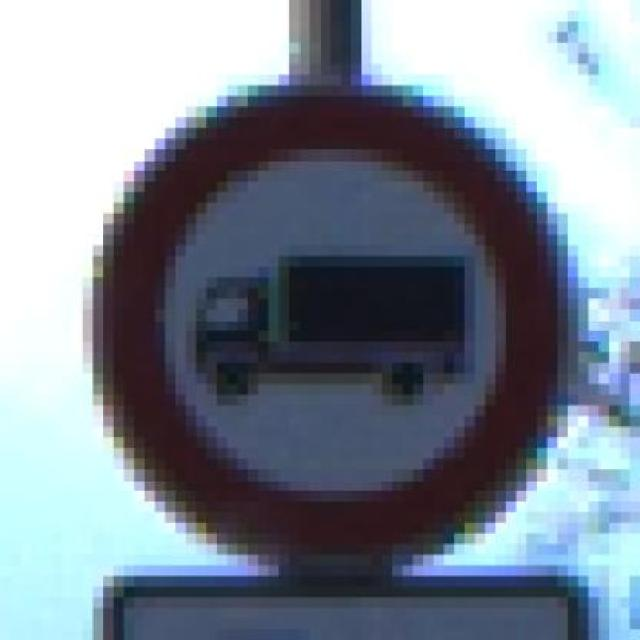Truck traffic is prohibited: (61, 64, 598, 576)
